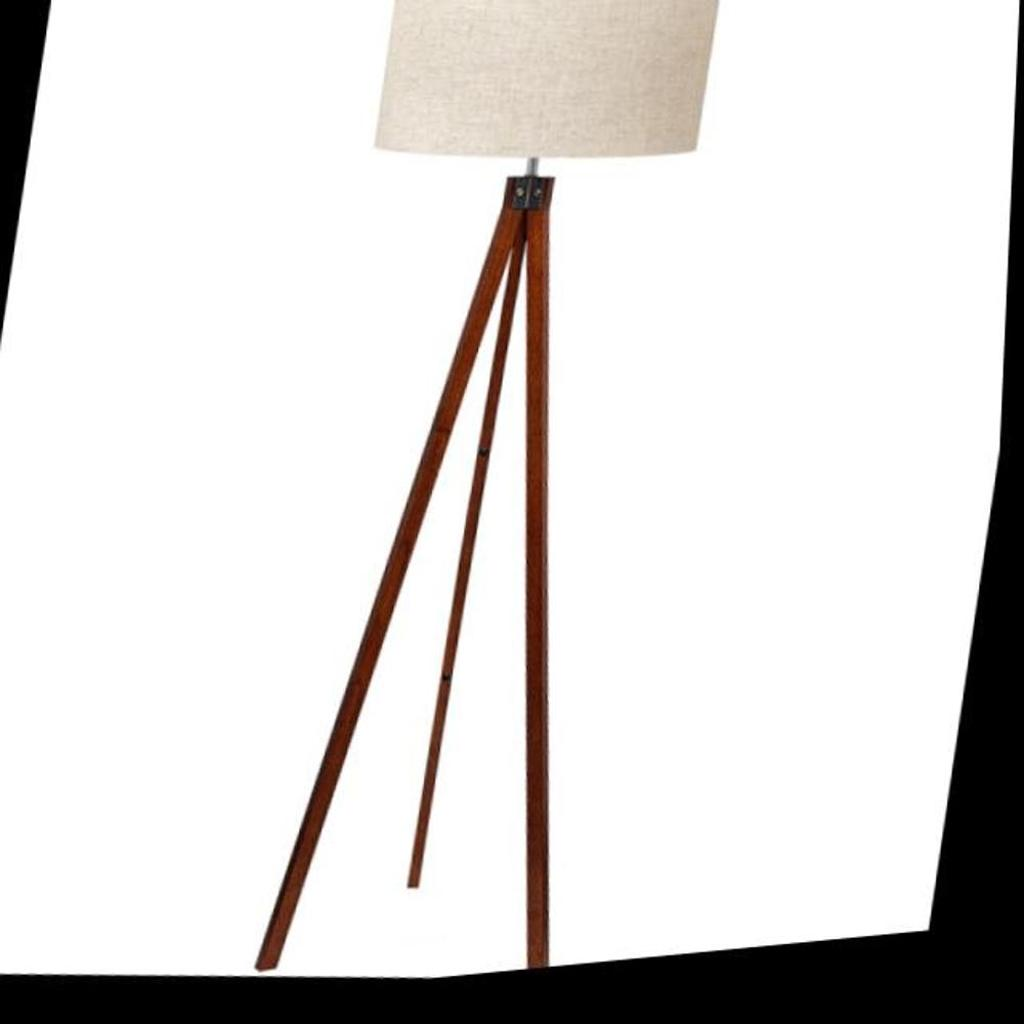shelf: (227, 0, 754, 1004)
